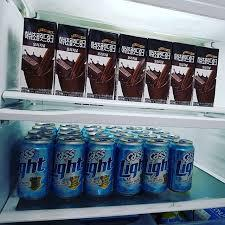beer: (19, 122, 194, 201)
